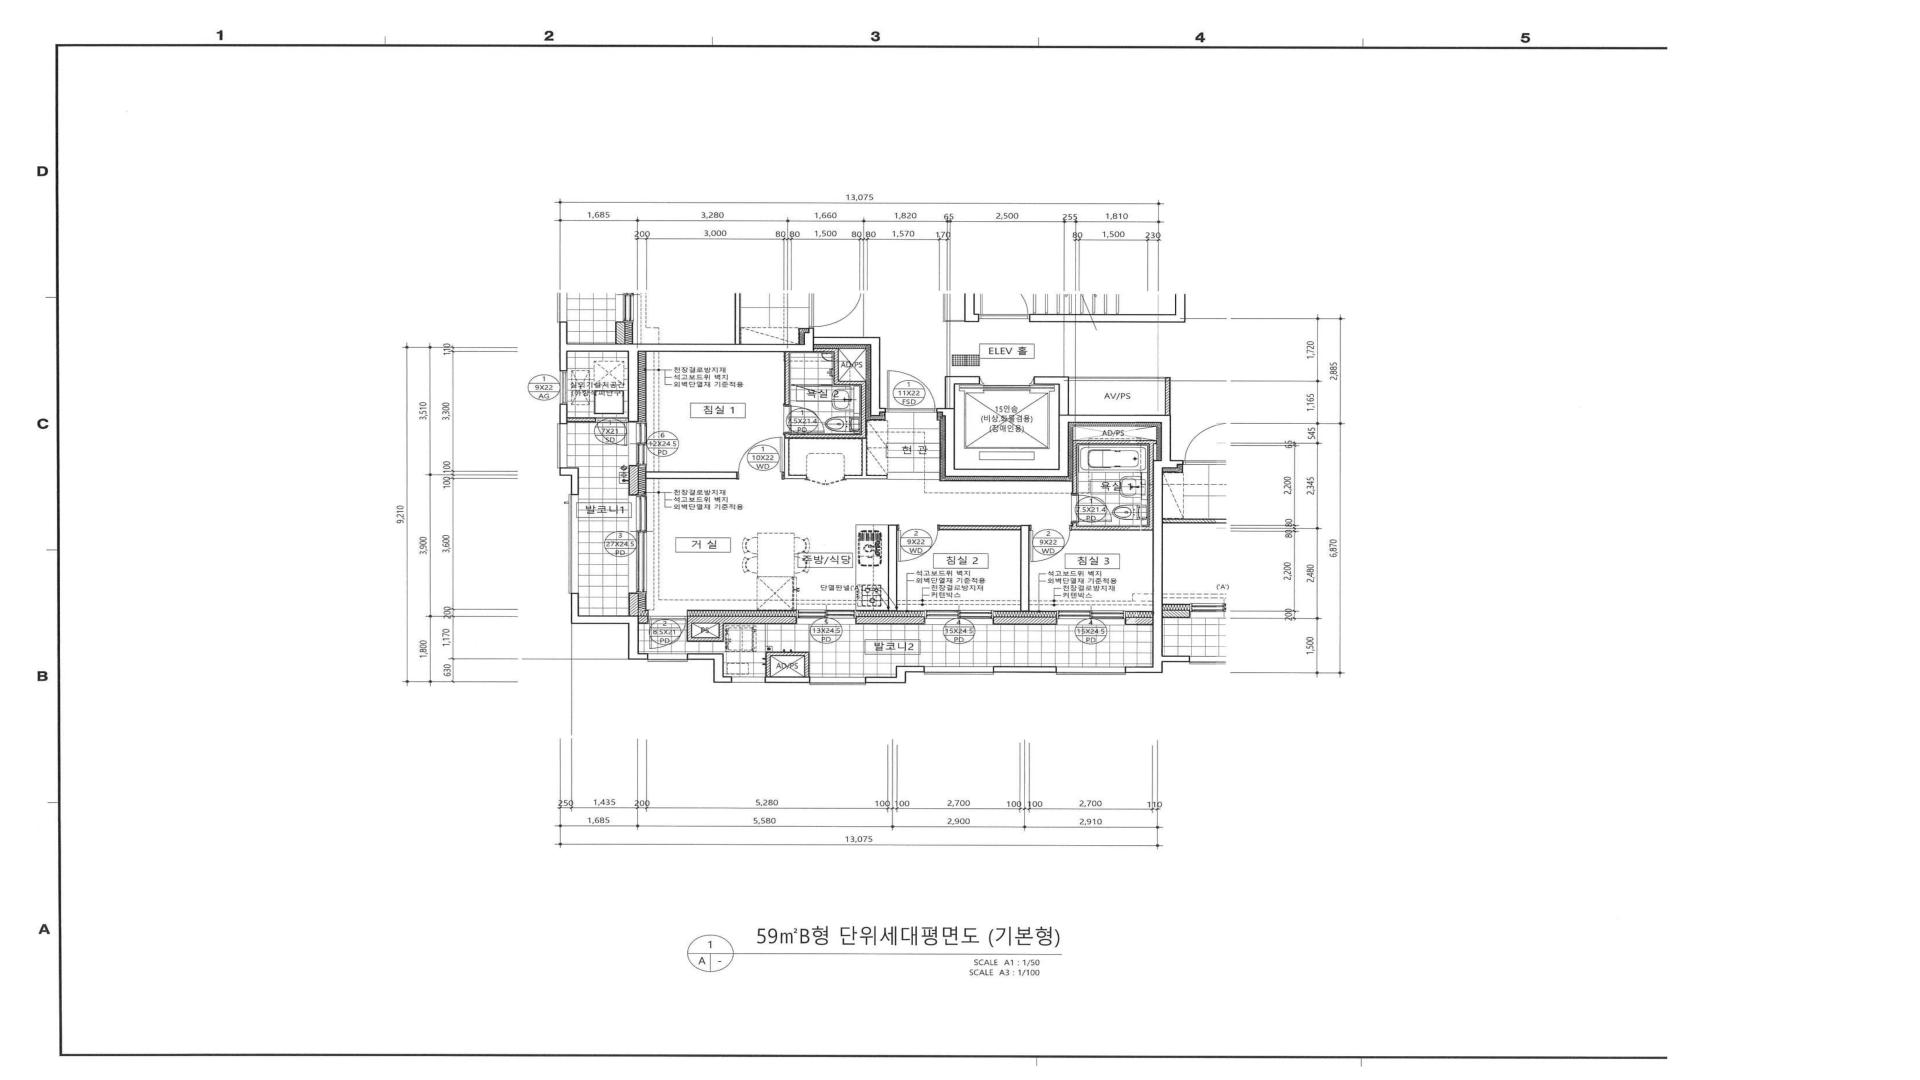door: (886, 370, 937, 412), (737, 437, 784, 480), (897, 524, 939, 561), (1030, 525, 1071, 562), (648, 616, 687, 649), (783, 405, 825, 433), (1071, 494, 1112, 522), (596, 418, 628, 446), (790, 384, 822, 393)
wall: (936, 376, 1172, 673), (560, 328, 886, 422), (939, 525, 1030, 611), (1071, 440, 1157, 530), (784, 348, 866, 438), (571, 593, 648, 660), (1029, 294, 1186, 323), (1069, 377, 1170, 415), (844, 438, 887, 479), (687, 653, 732, 683), (766, 651, 809, 676), (865, 666, 925, 683), (784, 438, 807, 479), (687, 616, 797, 624), (888, 524, 897, 611), (645, 471, 737, 479), (687, 624, 724, 641), (943, 294, 964, 322), (856, 616, 925, 624), (560, 467, 579, 495), (993, 617, 1057, 625), (993, 666, 1057, 673), (964, 293, 979, 322), (784, 352, 790, 405), (765, 676, 810, 683), (629, 465, 638, 496), (629, 592, 639, 615), (1125, 617, 1152, 625), (560, 403, 567, 424), (568, 417, 596, 422), (639, 616, 648, 624), (822, 384, 832, 386)
window: (628, 496, 647, 592), (1057, 610, 1125, 625), (925, 610, 993, 625), (569, 495, 578, 592), (797, 610, 856, 624), (628, 423, 647, 465), (1057, 666, 1125, 675), (925, 666, 993, 675), (810, 677, 865, 685), (557, 424, 567, 467), (649, 654, 687, 662), (560, 371, 567, 403), (732, 677, 765, 683)
